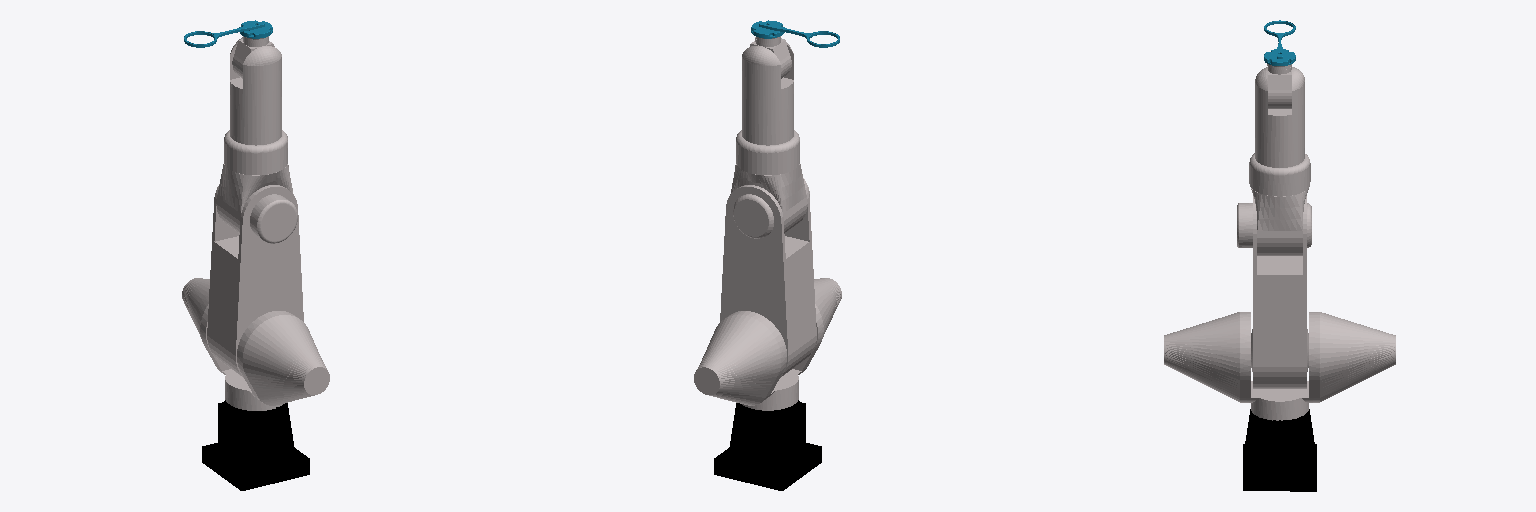
The robot description file, URDF, robot "CRS_97":
<?xml version="1.0"?>
<robot name="CRS_97">

    <!-- BASE LINK -->
    <link name="base_link">
        <inertial>
            <origin xyz="0 0 0.0825" rpy="0 0 0"/>
            <mass value="3.5"/>
            <inertia ixx="0.016" iyy="0.016" izz="0.016" ixy="0" ixz="0" iyz="0"/>
        </inertial>
        <visual>
            <origin xyz="0 0 0" rpy="1.57 0 0"/>
            <geometry>
                <mesh filename="meshes/00_base.stl" scale="0.001 0.001 0.001"/>
            </geometry>
            <material name="black">
                <color rgba="0 0 0 1"/>
            </material>
        </visual>
        <collision>
            <origin xyz="0 0 0.0825" rpy="0 0 0"/>
            <geometry>
                <box size="0.2 0.2 0.165"/>
            </geometry>
        </collision>
    </link>

    <!--  JOINT 0  -->
    <joint name="joint0" type="revolute">
        <origin xyz="0 0 0.16" rpy="0 0 0"/>
        <parent link="base_link"/>
        <child link="link_0"/>
        <axis xyz="0 0 1"/>
        <limit effort="30" velocity="1.0" lower="-3.0543" upper="3.0543"/>
    </joint>

    <!--  LINK 0  -->
    <link name="link_0">
        <inertial>
            <origin xyz="0 0 0.1125" rpy="0 0 0"/>
            <mass value="2.8"/>
            <inertia ixx="0.031" iyy="0.012" izz="0.028" ixy="0" ixz="0" iyz="0"/>
        </inertial>
        <visual>
            <origin xyz="0 0 0" rpy="1.57 0 0"/>
            <geometry>
                <mesh filename="meshes/00_link_0.stl" scale="0.001 0.001 0.001"/>
            </geometry>
            <material  name="gray">
                <color rgba="0.78 0.75 0.75 1"/>
            </material>
        </visual>
        <collision>
            <origin xyz="0 0 0.1125" rpy="0 0 0"/>
            <geometry>
                <box size="0.160 0.514 0.23"/>
            </geometry>
        </collision>
    </link>

    <!--  JOINT 1  -->
    <joint name="joint1" type="revolute">
        <origin xyz="0 0 0.145" rpy="0 0 0"/>
        <parent link="link_0"/>
        <child link="link_1"/>
        <axis xyz="0 -1 0"/>
        <limit effort="30" velocity="1.0" lower="-1.57" upper="1.57"/>
    </joint>

    <!--  LINK 1  -->
    <link name="link_1">
        <inertial>
            <origin xyz="0 0 0.1525" rpy="0 0 0"/>
            <mass value="2.4"/>
            <inertia ixx="0.028" iyy="0.028" izz="0.010" ixy="0" ixz="0" iyz="0"/>
        </inertial>
        <visual>
            <origin xyz="0 -0.065 0" rpy="0 -1.57 0"/>
            <geometry>
                <mesh filename="meshes/01_link_1.stl" scale="0.001 0.001 0.001"/>
            </geometry>
            <material name="gray">
                <color rgba="0.78 0.75 0.75 1"/>
            </material>
        </visual>
        <collision>
            <origin xyz="0 0 0.1525" rpy="0 0 0"/>
            <geometry>
                <box size="0.14 0.12 0.455"/>
            </geometry>
        </collision>
    </link>

    <!--  JOINT 2  -->
    <joint name="joint2" type="revolute">
        <origin xyz="0 0 0.305" rpy="0 0 0"/>
        <parent link="link_1"/>
        <child link="link_2"/>
        <axis xyz="0 -1 0"/>
        <limit effort="30" velocity="1.0" lower="-1.9199" upper="1.9199"/>
    </joint>

    <!--  LINK 2  -->
    <link name="link_2">
        <inertial>
            <origin xyz="0 0 0.025" rpy="0 0 0"/>
            <mass value="0.7"/>
            <inertia ixx="0.0014" iyy="0.0011" izz="0.0010" ixy="0" ixz="0" iyz="0"/>
        </inertial>
        <visual>
            <origin xyz="0 -0.05 0" rpy="0 -1.57 0"/>
            <geometry>
                <mesh filename="meshes/02_link_2.stl" scale="0.001 0.001 0.001"/>
            </geometry>            
            <material name="gray">
                <color rgba="0.78 0.75 0.75 0.4"/>
            </material>
        </visual>
        <collision>
            <origin xyz="0 0 0.025" rpy="0 0 0"/>
            <geometry>
                <box size="0.11 0.102 0.17"/>
            </geometry>
        </collision>
    </link>

    <!--  JOINT 3  -->
    <joint name="joint3" type="revolute">
        <origin xyz="0 0 0.102" rpy="0 0 0"/>
        <parent link="link_2"/>
        <child link="link_3"/>
        <axis xyz="0 0 1"/>
        <limit effort="30" velocity="1.0" lower="-3.14" upper="3.14"/>
    </joint>

    <!--  LINK 3  -->
    <link name="link_3">
        <inertial>
            <origin xyz="0 0 0.1015" rpy="0 0 0"/>
            <mass value="1.3"/>
            <inertia ixx="0.0043" iyy="0.0043" izz="0.0024" ixy="0" ixz="0" iyz="0"/>
        </inertial>
        <visual>
            <origin xyz="0 0 0" rpy="1.57 0 0"/>
            <geometry>
                <mesh filename="meshes/03_link_3.stl" scale="0.001 0.001 0.001"/>
            </geometry>            
            <material  name="gray">
                <color rgba="0.78 0.75 0.75 1"/>
            </material>
        </visual>
        <collision>
            <origin xyz="0 0 0.1015" rpy="0 0 0"/>
            <geometry>
                <cylinder radius="0.067" length="0.28"/>
            </geometry>
        </collision>
    </link>

    <!--  JOINT 4  -->
    <joint name="joint4" type="revolute">
        <origin xyz="0 0 0.228" rpy="0 -1.57 0"/>
        <parent link="link_3"/>
        <child link="link_4"/>
        <axis xyz="0 -1 0"/>
        <limit effort="30" velocity="1.0" lower="-1.8326" upper="1.8326"/>
    </joint>

    <!--  LINK 4  -->
    <link name="link_4">
        <inertial>
            <origin xyz="0.038 0 0" rpy="0 0 0"/>
            <mass value="0.3"/>
            <inertia ixx="0.00015" iyy="0.00017" izz="0.00019" ixy="0" ixz="0" iyz="0"/>
        </inertial>
        <visual>
            <origin xyz="0 -0.0275 0" rpy="0 0 0"/>
            <geometry>
                <mesh filename="meshes/04_link_4.stl" scale="0.001 0.001 0.001"/>
            </geometry>
            <material name="gray">
                <color rgba="0.78 0.75 0.75 1"/>
            </material>
        </visual>
        <collision>
            <origin xyz="0.02 0 0" rpy="1.57 0 0"/>
            <geometry>
                <cylinder radius="0.042" length="0.056"/>
            </geometry>
        </collision>
    </link>

    <!--  JOINT 5  -->
    <joint name="joint5" type="revolute">
        <origin xyz="0.076 0 0" rpy="0 0 0"/>
        <parent link="link_4"/>
        <child link="link_5"/>
        <axis xyz="1 0 0"/>
        <limit effort="30" velocity="1.0" lower="-3.14" upper="3.14"/>
    </joint>

    <!--  LINK 5 -->
    <link name="link_5">
        <inertial>
            <origin xyz="-0.01 0 0" rpy="0 0 0"/>
            <mass value="0.15"/>
            <inertia ixx="6e-05" iyy="5e-05" izz="5e-05" ixy="0" ixz="0" iyz="0"/>
        </inertial>
        <visual>
            <origin xyz="-0.008 -0.001 0.001" rpy="0 3.14  0"/>
            <geometry>
                <mesh filename="meshes/05_link_5.stl" scale="0.001 0.001 0.001"/>
            </geometry>            
            <material  name="gray">
                <color rgba="0.78 0.75 0.75 1"/>
            </material>
        </visual>
        <collision>
            <origin xyz="-0.01 0 0" rpy="0 1.57 0"/>
            <geometry>
                <cylinder radius="0.028" length="0.015"/>
            </geometry>
        </collision>
    </link>

    <!--  JOINT 6  -->
    <joint name="joint6" type="fixed">
        <origin xyz="0.0 0 0" rpy="0 -1.57 0"/>
        <parent link="link_5"/>
        <child link="adapter"/>
    </joint>

    <!-- adapter -->
    <link name="adapter">
        <inertial>
            <origin xyz="0 0 0" rpy="0 0 0"/>
            <mass value="0.3"/>
            <inertia ixx="5e-4" iyy="5e-4" izz="5e-4" ixy="0" ixz="0" iyz="0"/>
        </inertial>
        <visual>
            <origin xyz="0 0 0" rpy="0 0 1.57"/>
            <geometry>
                <mesh filename="meshes/CRS_adapter.stl" scale="0.001 0.001 0.001"/>
            </geometry>
            <material name="gray_blue">
                <color rgba="0.14 0.55 0.68 0.8"/>
            </material>
        </visual>
        <!-- <collision>
            <origin xyz="0 0 0" rpy="0 0 0"/>
            <geometry>
                <cylinder radius="0.03" length="0.04"/>
            </geometry>
        </collision> -->
    </link>

    <!--  JOINT 7  -->
    <joint name="joint7" type="fixed">
        <origin xyz="0 0 -0.008" rpy="0 0 0"/>
        <parent link="adapter"/>
        <child link="hoop"/>
    </joint>

    <!--  hoop  -->
    <link name="hoop">
        <inertial>
            <origin xyz="0 0 0" rpy="0 0 0"/>
            <mass value="0.2"/>
            <inertia ixx="3e-4" iyy="3e-4" izz="3e-4" ixy="0" ixz="0" iyz="0"/>
        </inertial>
        <visual>
            <origin xyz="0 0 0" rpy="0 0 1.57"/>
            <geometry>
                <mesh filename="meshes/hoop.stl" scale="0.001 0.001 0.001"/>
            </geometry>
            <material name="gray_blue">
                <color rgba="0.14 0.55 0.68 0.8"/>
            </material>
        </visual>
        <!-- <collision>
            <origin xyz="0 0 0" rpy="0 0 0"/>
            <geometry>
                <cylinder radius="0.05" length="0.01"/>
            </geometry>
        </collision> -->
    </link>
</robot>

--- Render facts (derived) ---
The picture shows the robot from 3 angles, left to right: view 1: azimuth 30°, elevation 25°; view 2: azimuth 150°, elevation 25°; view 3: azimuth 270°, elevation 25°; orthographic projection.
Model CRS_97 with 9 links and 8 joints (6 revolute, 2 fixed), rooted at base_link, posed all joints at 0.
Visible links, largest first — view 1: link_1, link_0, link_3, base_link, link_2, link_4; view 2: link_1, link_0, link_3, base_link, link_2, link_4; view 3: link_0, link_1, link_3, base_link, link_2, link_4.
Link boxes in pixels (box(x1,y1,x2,y2)): link_1: box(207, 184, 303, 377); link_0: box(182, 278, 329, 410); link_3: box(224, 37, 287, 174); base_link: box(202, 400, 309, 490); link_2: box(216, 164, 293, 233); link_4: box(232, 38, 274, 78); link_1: box(720, 178, 816, 377); link_0: box(694, 278, 841, 410); link_3: box(736, 38, 799, 174); base_link: box(714, 400, 821, 490); link_2: box(730, 164, 807, 233); link_4: box(750, 37, 791, 78); link_0: box(1164, 312, 1395, 420); link_1: box(1237, 196, 1311, 388); link_3: box(1249, 67, 1310, 196); base_link: box(1243, 409, 1316, 491); link_2: box(1251, 188, 1308, 255); link_4: box(1268, 66, 1291, 108).
Bounding box of the posed robot: 0.2538 × 0.5136 × 1.03 m (x, y, z).
9 mesh visuals loaded from 9 distinct referenced files (9 binary STL).
